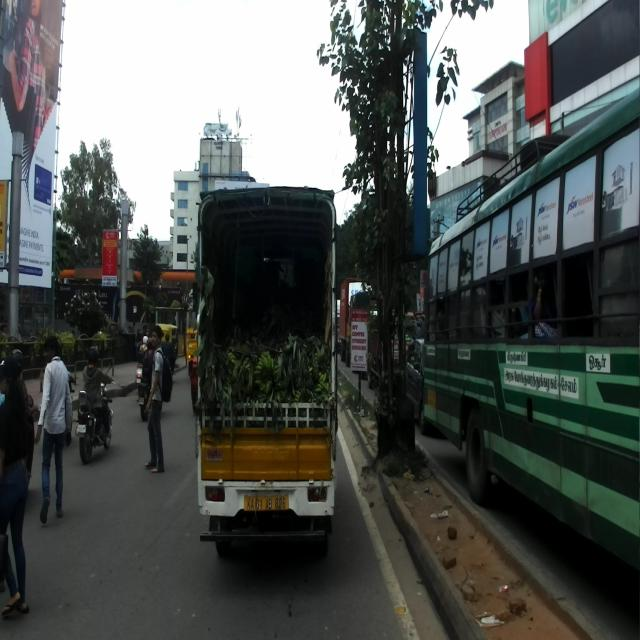bus: (425, 86, 640, 568)
motorcycle: (76, 364, 118, 462)
truck: (195, 183, 339, 555)
